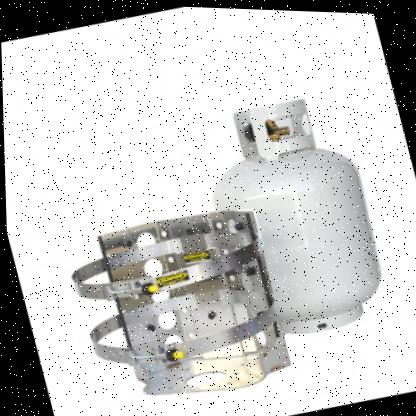gas-tank: (175, 61, 408, 355)
